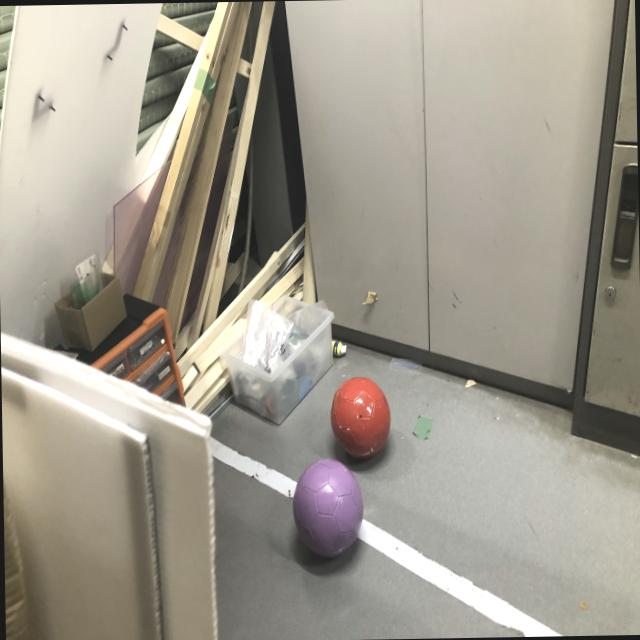purple_ball: (294, 457, 362, 555)
red_ball: (330, 377, 390, 460)
